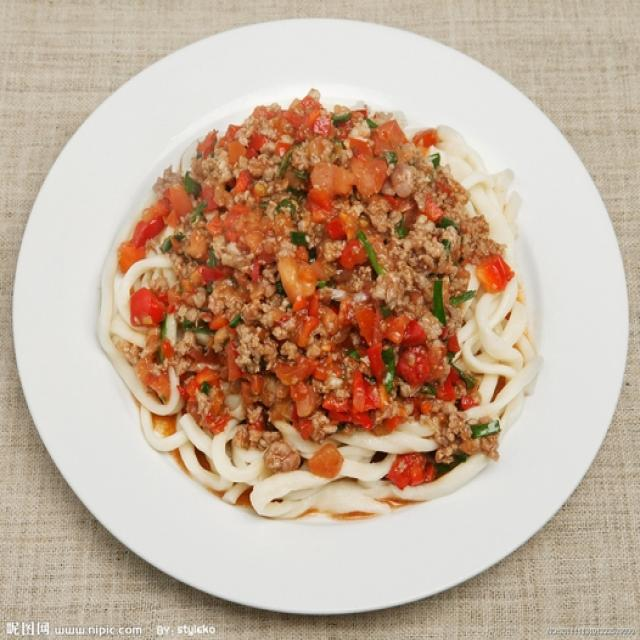面条主食: (26, 28, 620, 600)
